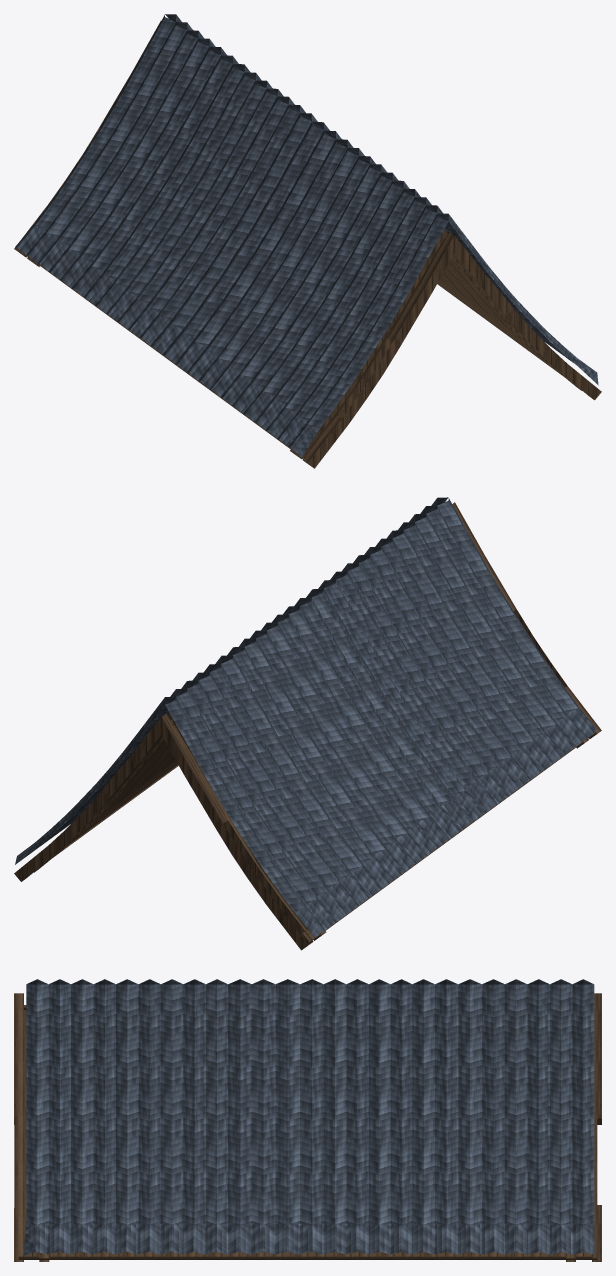
Rendered from Roof_Slate_6x12.gltf.
The picture shows the model from 3 angles, top to bottom: view 1: azimuth 30°, elevation 25°; view 2: azimuth 150°, elevation 25°; view 3: azimuth 270°, elevation 25°; orthographic projection.
Visible parts, largest first — view 1: Roof_Slate_6x12; view 2: Roof_Slate_6x12; view 3: Roof_Slate_6x12.
Part boxes in pixels (x1,y1,x2,y2): Roof_Slate_6x12: [14, 14, 601, 468]; Roof_Slate_6x12: [14, 497, 601, 950]; Roof_Slate_6x12: [14, 979, 601, 1261].
Bounding box in the file's own units: 8.25 × 5.42 × 13.66.
Materials: 2 (2 with a texture image).
